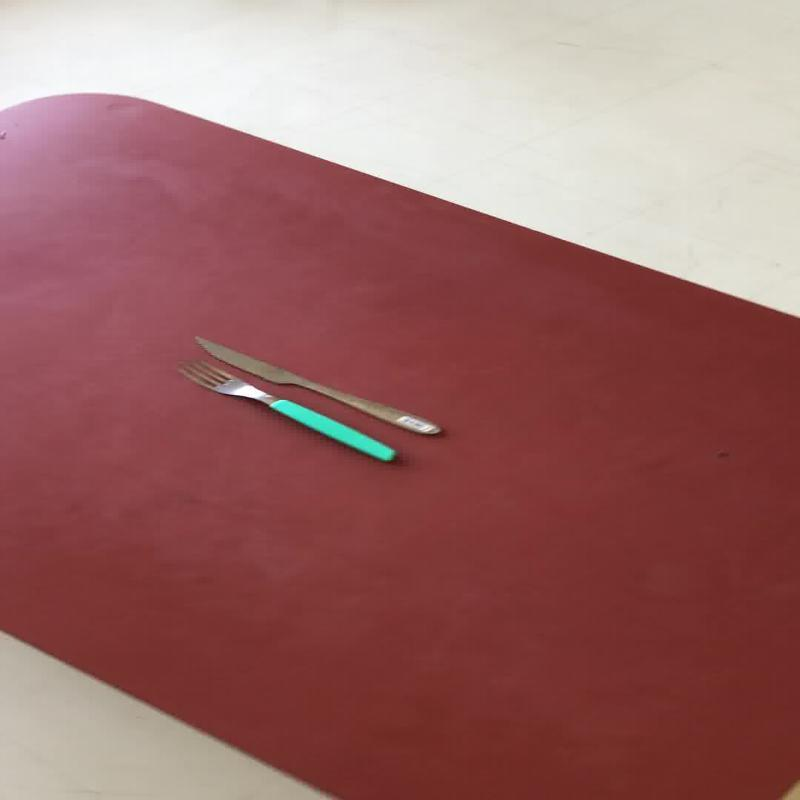fork: (176, 357, 396, 463)
knife: (191, 334, 442, 436)
